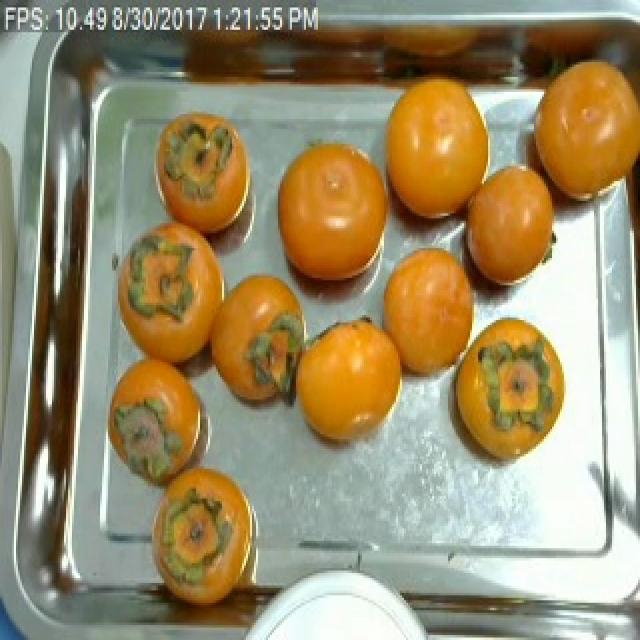Fruit: (260, 121, 398, 328), (372, 62, 504, 246), (434, 303, 574, 476), (516, 42, 640, 233), (136, 452, 272, 625), (278, 300, 418, 464), (98, 344, 232, 504), (144, 100, 268, 266), (452, 146, 570, 303), (200, 256, 312, 419), (368, 233, 476, 397)
